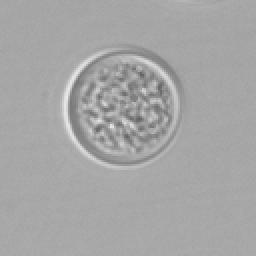picoshell: (62, 46, 182, 168)
